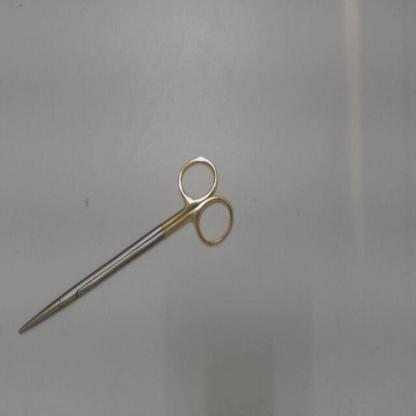7 Metzenbaum Scissors: (15, 150, 237, 340)
